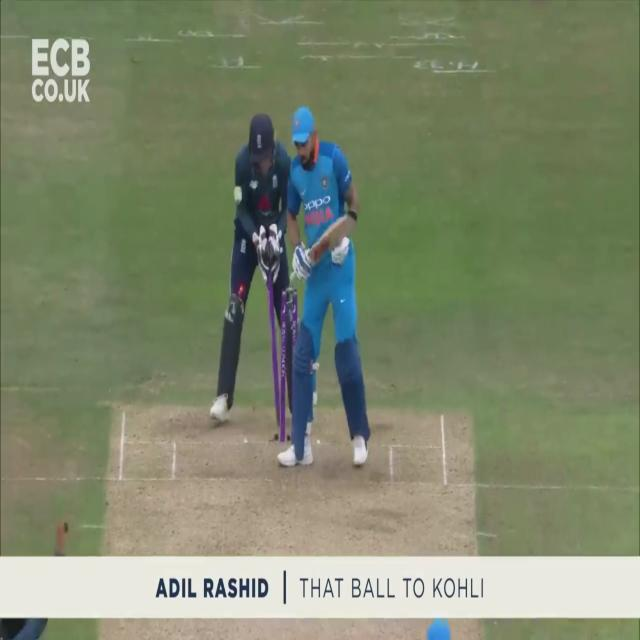cricketBall: (235, 187, 242, 203)
